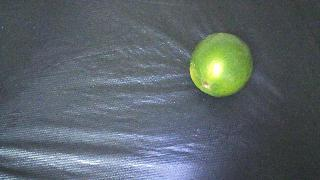LOCAL: (189, 33, 253, 97)
